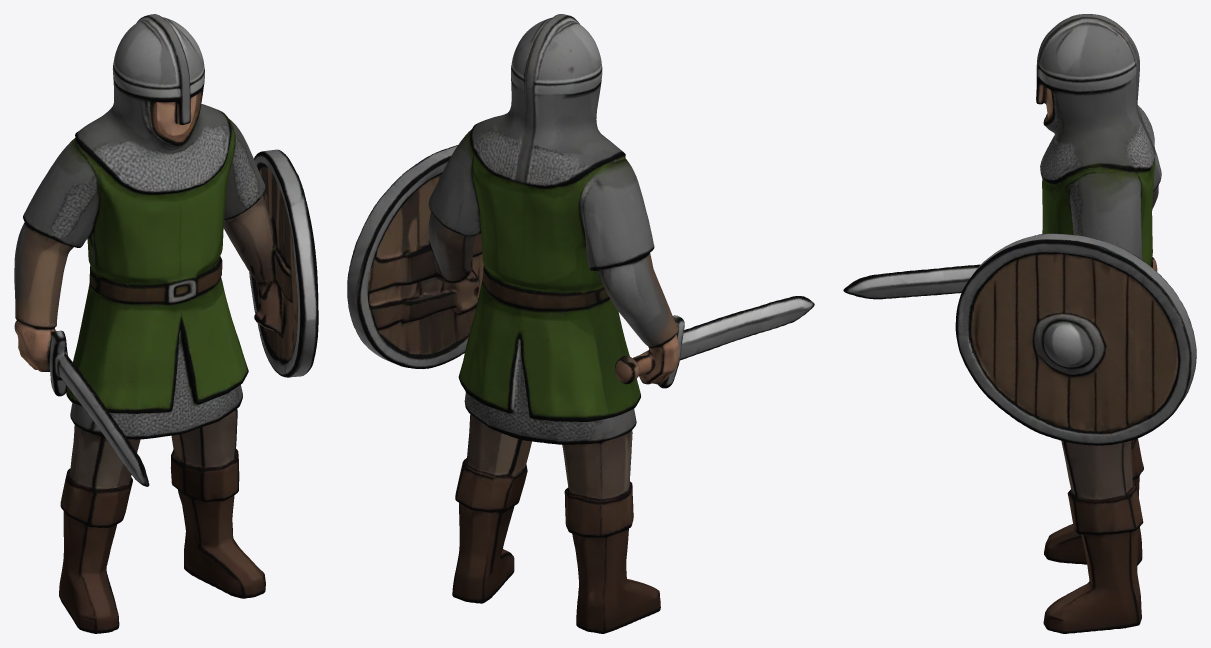
Rendered from swordsman-optimized.glb.
3 renders of one model, left to right at view 1: azimuth 30°, elevation 25°; view 2: azimuth 150°, elevation 25°; view 3: azimuth 270°, elevation 25°, orthographic.
Visible parts, largest first — view 1: world; view 2: world; view 3: world.
Boxes of the visible parts, x1,y1,x2,y2 form: world: (14,14,318,633); world: (347,14,814,633); world: (843,14,1196,633).
Bounding box in the file's own units: 0.5285 × 1 × 0.5578.
Materials: 1 (1 with a texture image).
